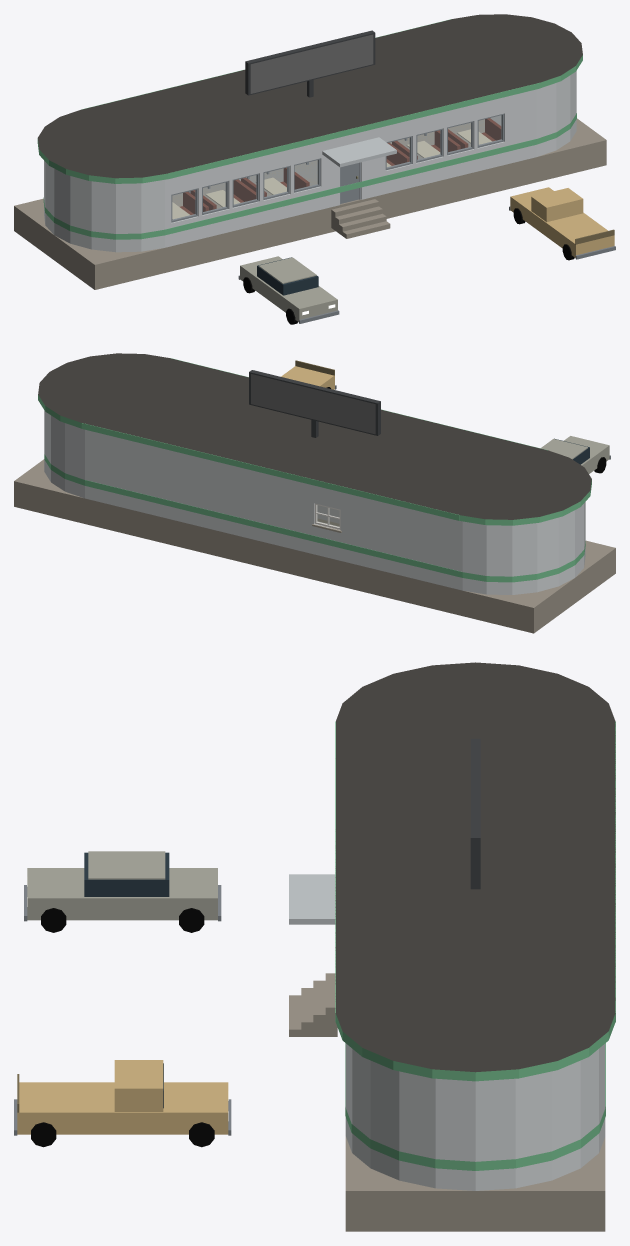
Rendered from diner.glb.
The picture shows the model from 3 angles, top to bottom: view 1: azimuth 30°, elevation 25°; view 2: azimuth 150°, elevation 25°; view 3: azimuth 270°, elevation 25°; orthographic projection. The views are drawn at different scales.
Visible parts, largest first — view 1: LOD0, FURN, LEAF0; view 2: LOD0; view 3: LOD0.
Part boxes in pixels (left/top/right/bottom): LOD0: left=14, top=14, right=615, bottom=324; FURN: left=172, top=118, right=501, bottom=219; LEAF0: left=340, top=163, right=359, bottom=203; LOD0: left=14, top=353, right=615, bottom=633; LOD0: left=14, top=662, right=615, bottom=1231.
Size of what is drawn, in the model's own units: 23.9 by 6.6 by 14.84.
